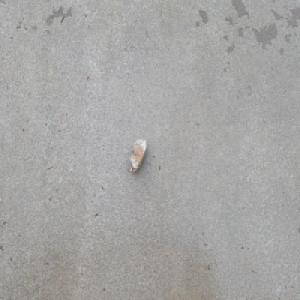Rock: (128, 137, 148, 173)
